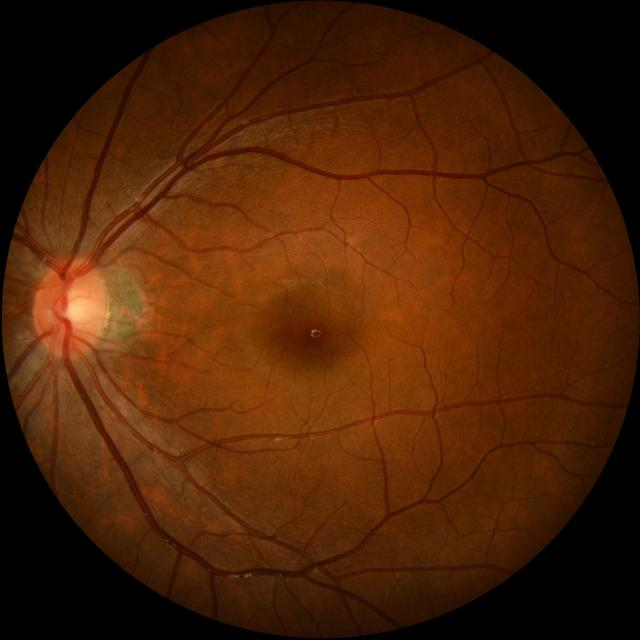OC: (58, 286, 92, 327)
OD: (32, 257, 108, 359)
